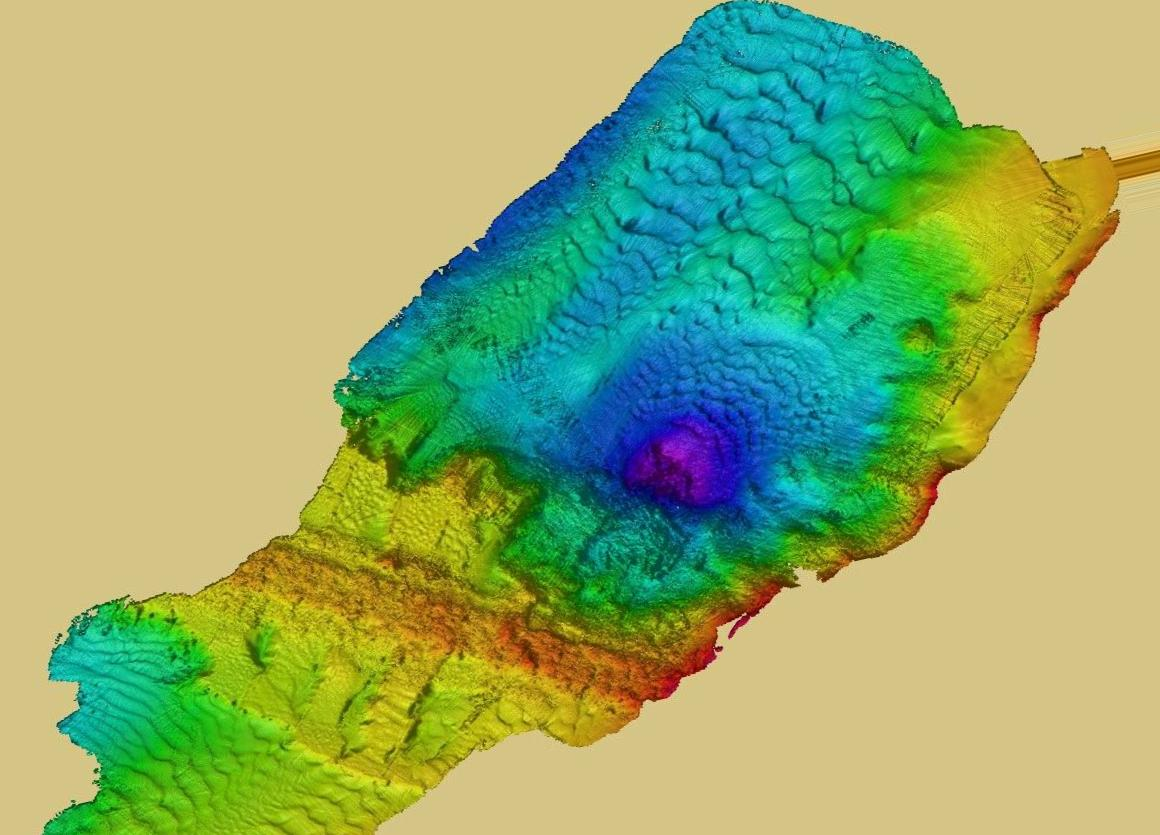Dune: (558, 151, 792, 350), (690, 50, 888, 259), (57, 721, 354, 829), (661, 337, 842, 428)
Scarp: (909, 288, 1093, 586), (724, 526, 1004, 677)
Scour pit: (575, 396, 749, 533)
Submerged dike: (195, 529, 712, 726)
